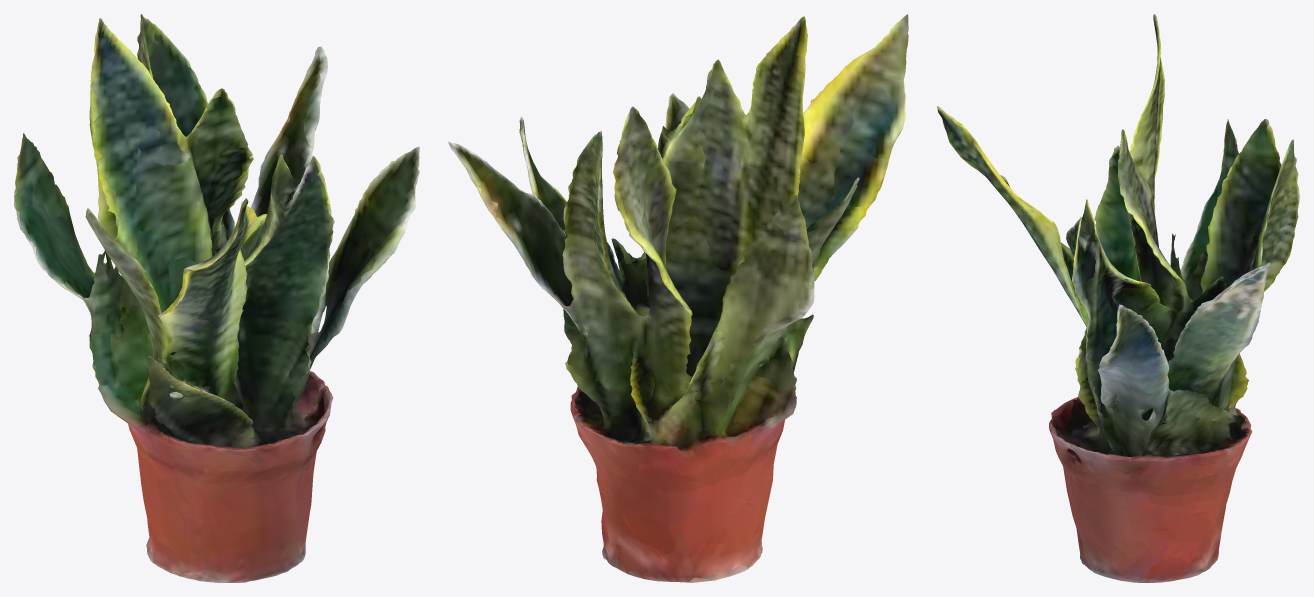
The model's file is sf-snake-plant.glb.
3 views of the same model, side by side, from view 1: azimuth 30°, elevation 25°; view 2: azimuth 150°, elevation 25°; view 3: azimuth 270°, elevation 25° (orthographic). The views are drawn at different scales.
Parts seen in each view (by area): view 1: Object_2; view 2: Object_2; view 3: Object_2.
Part boxes in pixels (left/top/right/bottom): Object_2: left=14, top=14, right=419, bottom=582; Object_2: left=448, top=14, right=908, bottom=582; Object_2: left=937, top=14, right=1299, bottom=582.
Bounding box in the file's own units: 0.2921 × 0.45 × 0.3036.
1 material, 1 textured.
